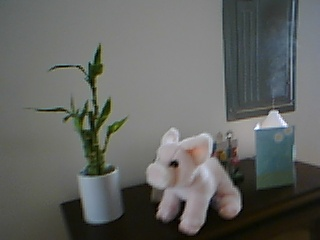piggy: (145, 126, 244, 237)
